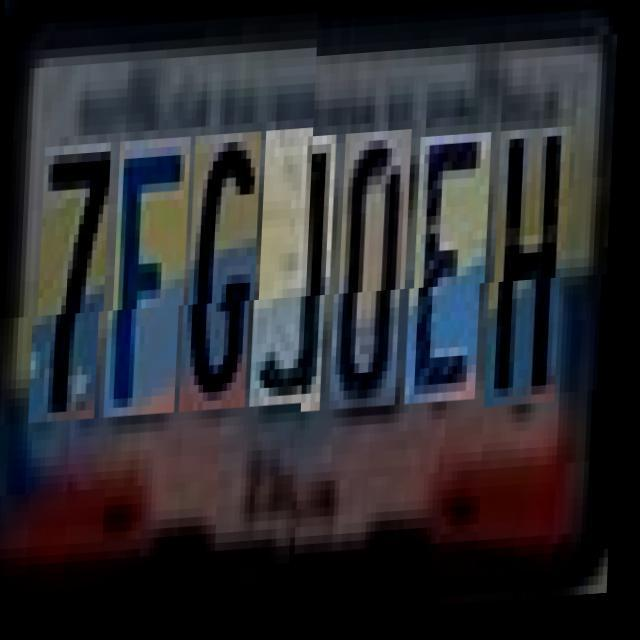0: (338, 136, 413, 415)
7: (36, 154, 112, 432)
E: (413, 140, 493, 410)
F: (112, 148, 192, 428)
G: (187, 145, 263, 424)
H: (493, 135, 573, 415)
J: (258, 140, 338, 420)
